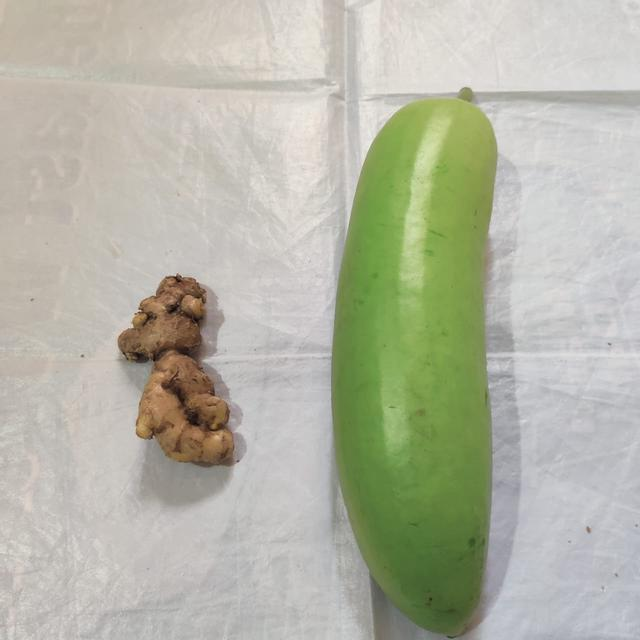Organik: (331, 79, 497, 635), (113, 271, 241, 467)
